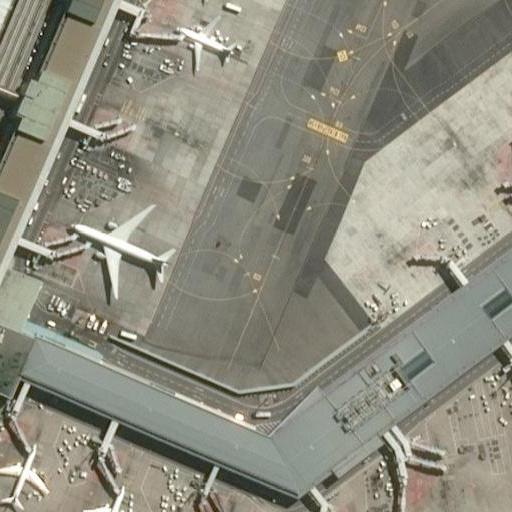Aircraft: (68, 199, 177, 304), (171, 12, 242, 76), (0, 441, 55, 512), (83, 477, 138, 512)
